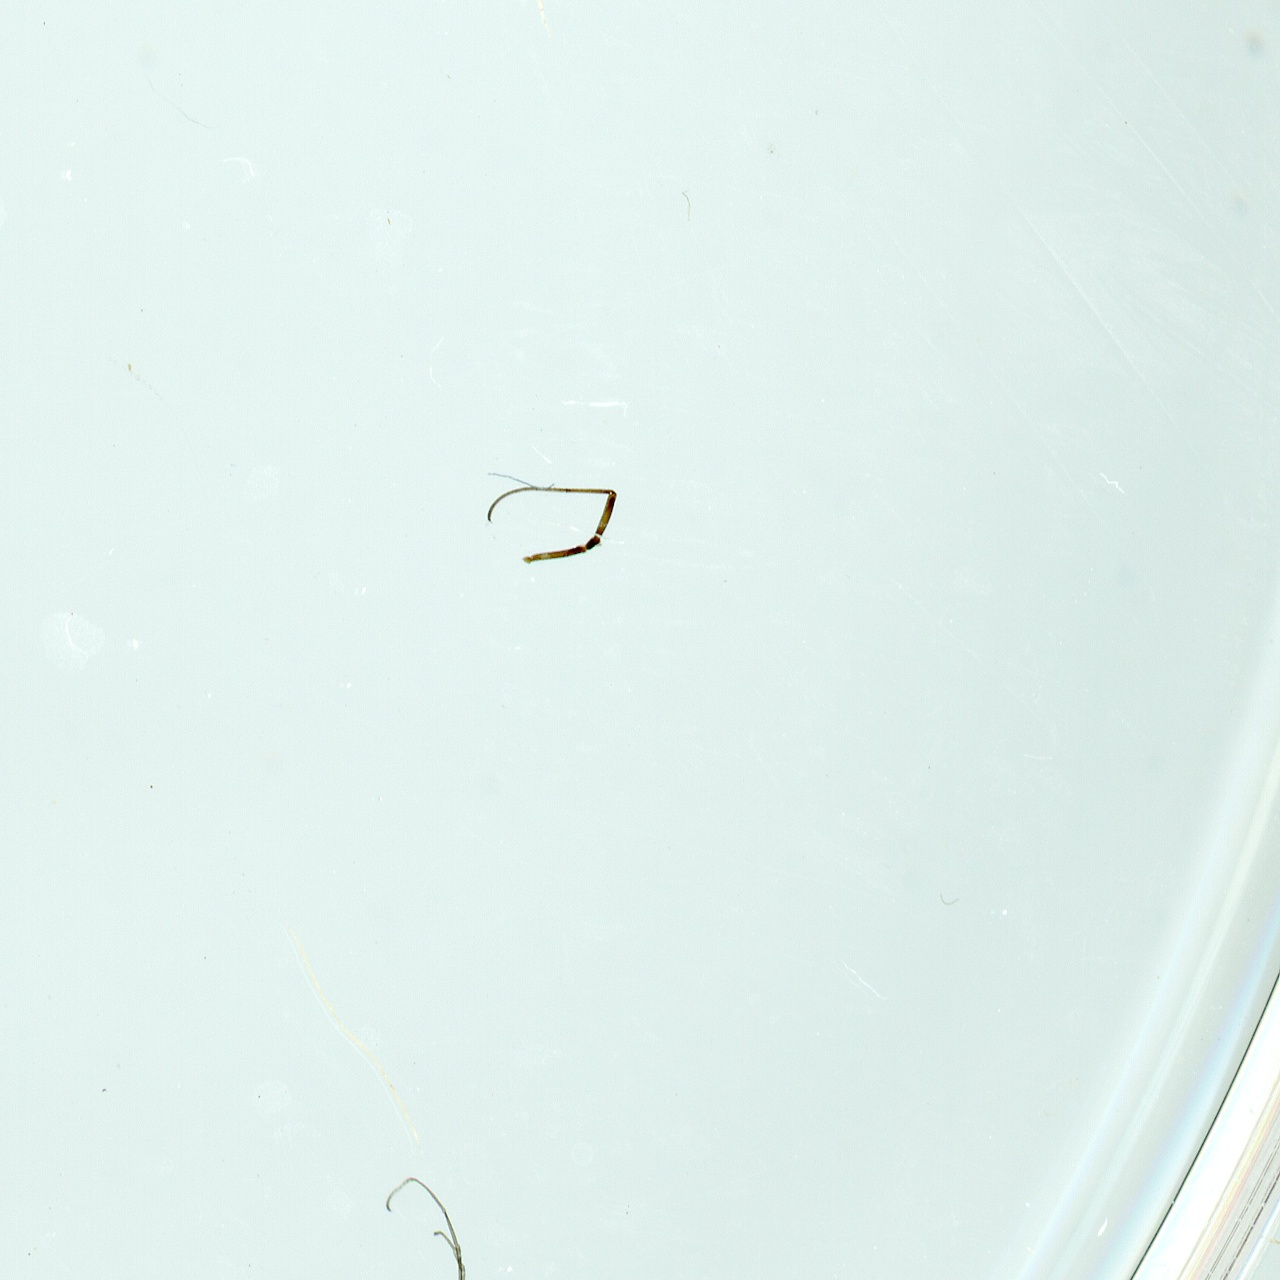arthropod: (372, 1142, 561, 1280)
